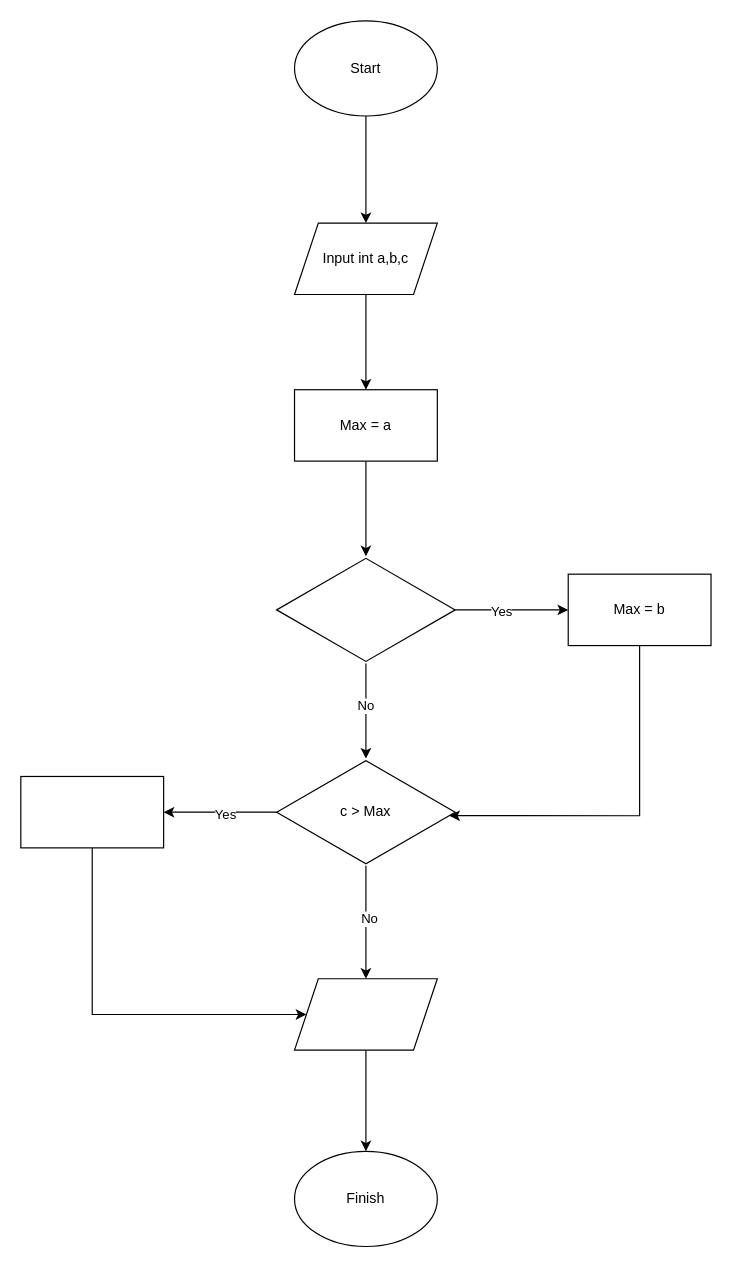
This 732x1267 diagram has some shape labels left out. The shapes that lost their labels are listed below. From the top down, each one's centre as x and y in pixels, then its label:
[365,609]: b > Max
[92,811]: Max = c
[365,1014]: Print Max
